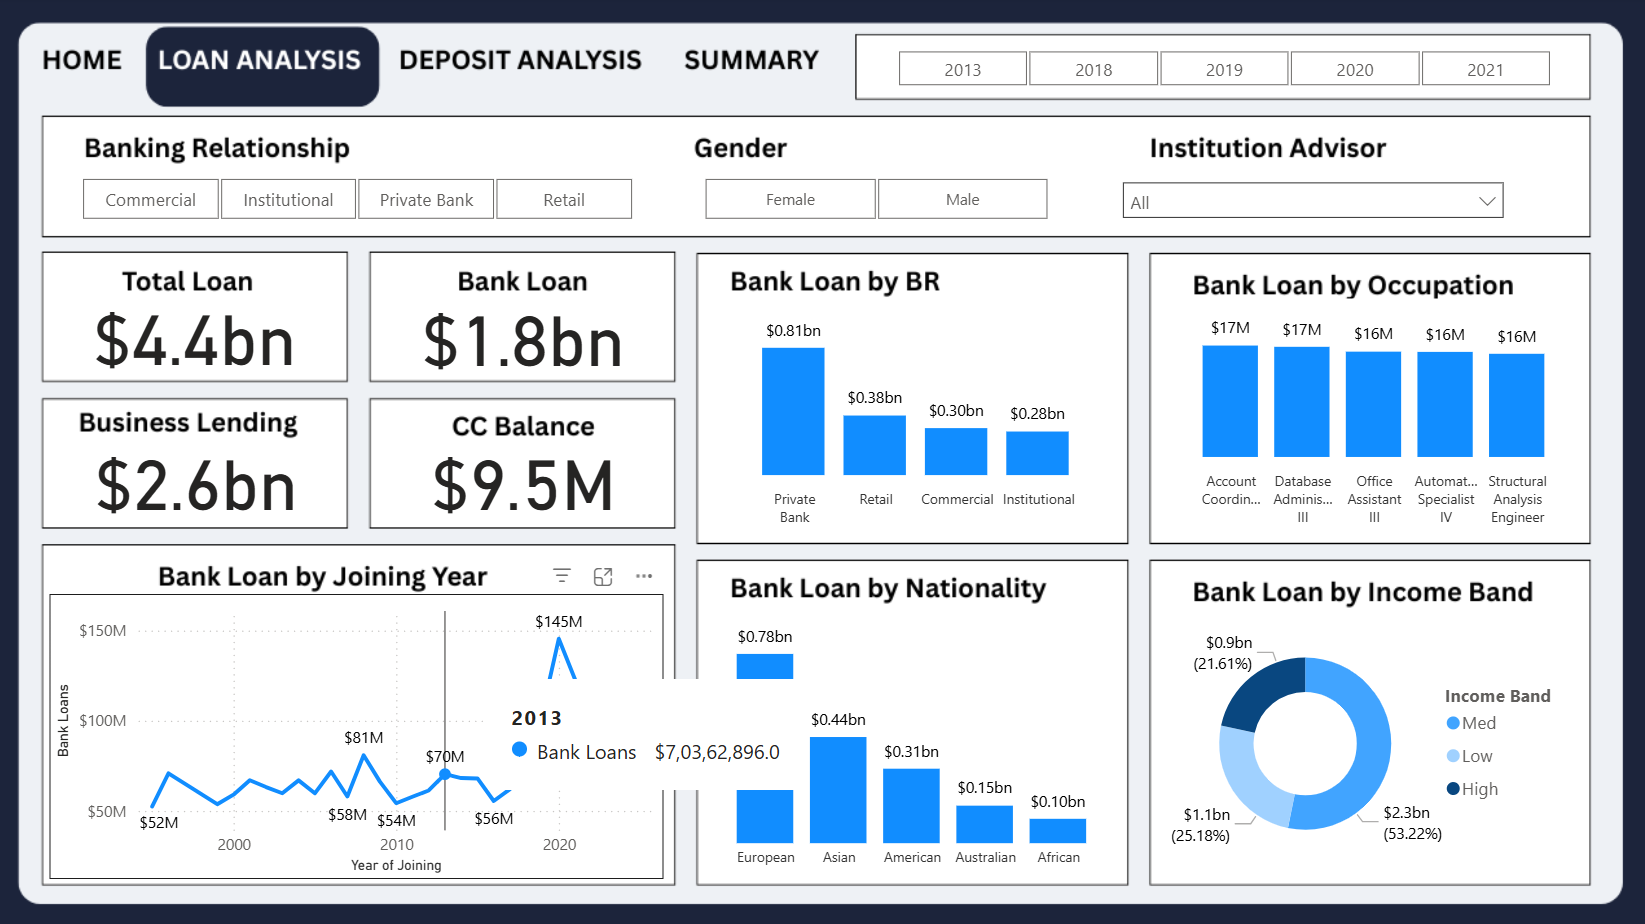

This screenshot's page, from the dashboard's own definition file:
{"tool":"powerbi","page":{"name":"Loan Analysis","canvas":[1280,720],"ordinal":1},"visuals":[{"type":"actionButton","box":[25.5,29,88.1,53.3],"z":0},{"type":"actionButton","box":[309.4,29,201.6,53.3],"z":1000},{"type":"actionButton","box":[526.1,29,128.6,53.3],"z":2000},{"type":"slicer","fields":{"Values":["banking_case banking.Year of Joining"]},"box":[675.5,34.8,552.7,40.6],"z":3000},{"type":"card","fields":{"Values":["Measure.Total Loan"]},"box":[53.3,215.5,207.4,84.6],"z":4000},{"type":"card","fields":{"Values":["Measure.Business Lending"]},"box":[73,334.9,170.3,69.5],"z":5000},{"type":"card","fields":{"Values":["Sum(banking_case banking.Bank Loans)"]},"box":[325.6,223.6,170.3,69.5],"z":6000},{"type":"card","fields":{"Values":["Sum(banking_case banking.Credit Card Balance)"]},"box":[325.6,334.9,170.3,69.5],"z":7000},{"type":"donutChart","fields":{"Category":["banking_case banking.Income Band"],"Y":["Measure.Total Loan"]},"box":[901.5,471.6,326.8,209.7],"z":8000},{"type":"clusteredColumnChart","fields":{"Category":["banking_case banking.BRId"],"Y":["Sum(banking_case banking.Bank Loans)"]},"box":[556.2,232.9,308.2,183.1],"z":9000},{"type":"clusteredColumnChart","fields":{"Y":["Sum(banking_case banking.Bank Loans)"],"Category":["banking_case banking.Nationality"]},"box":[548.1,471.6,326.8,209.7],"z":10000},{"type":"clusteredColumnChart","fields":{"Y":["Sum(banking_case banking.Bank Loans)"],"Category":["banking_case banking.Occupation"]},"box":[901.5,232.9,326.8,183.1],"z":11000},{"type":"slicer","fields":{"Values":["banking_case banking.BRId"]},"box":[45.2,133.3,473.9,45.2],"z":12000},{"type":"slicer","fields":{"Values":["banking_case banking.GenderId"]},"box":[526.1,133.3,314,45.2],"z":13000},{"type":"slicer","fields":{"Values":["banking_case banking.IAId"]},"box":[864.4,133.3,314,45.2],"z":14000},{"type":"lineChart","fields":{"Category":["banking_case banking.Year of Joining"],"Y":["Sum(banking_case banking.Bank Loans)"]},"box":[45.2,461.2,473.9,220.2],"z":15000}]}

Visuals, with their boxes in screenshot pixels (x1, y1, x2, y2), scaled from the page's 1280x720 canvas onto the 1645x924 screenshot:
actionButton: (33,37,146,106)
actionButton: (398,37,657,106)
actionButton: (676,37,841,106)
slicer - banking_case banking.Year of Joining: (868,45,1578,97)
card - Measure.Total Loan: (68,277,335,385)
card - Measure.Business Lending: (94,430,313,519)
card - Sum(banking_case banking.Bank Loans): (418,287,637,376)
card - Sum(banking_case banking.Credit Card Balance): (418,430,637,519)
donutChart - banking_case banking.Income Band x Measure.Total Loan: (1159,605,1579,874)
clusteredColumnChart - banking_case banking.BRId x Sum(banking_case banking.Bank Loans): (715,299,1111,534)
clusteredColumnChart - Sum(banking_case banking.Bank Loans) x banking_case banking.Nationality: (704,605,1124,874)
clusteredColumnChart - Sum(banking_case banking.Bank Loans) x banking_case banking.Occupation: (1159,299,1579,534)
slicer - banking_case banking.BRId: (58,171,667,229)
slicer - banking_case banking.GenderId: (676,171,1080,229)
slicer - banking_case banking.IAId: (1111,171,1514,229)
lineChart - banking_case banking.Year of Joining x Sum(banking_case banking.Bank Loans): (58,592,667,874)
